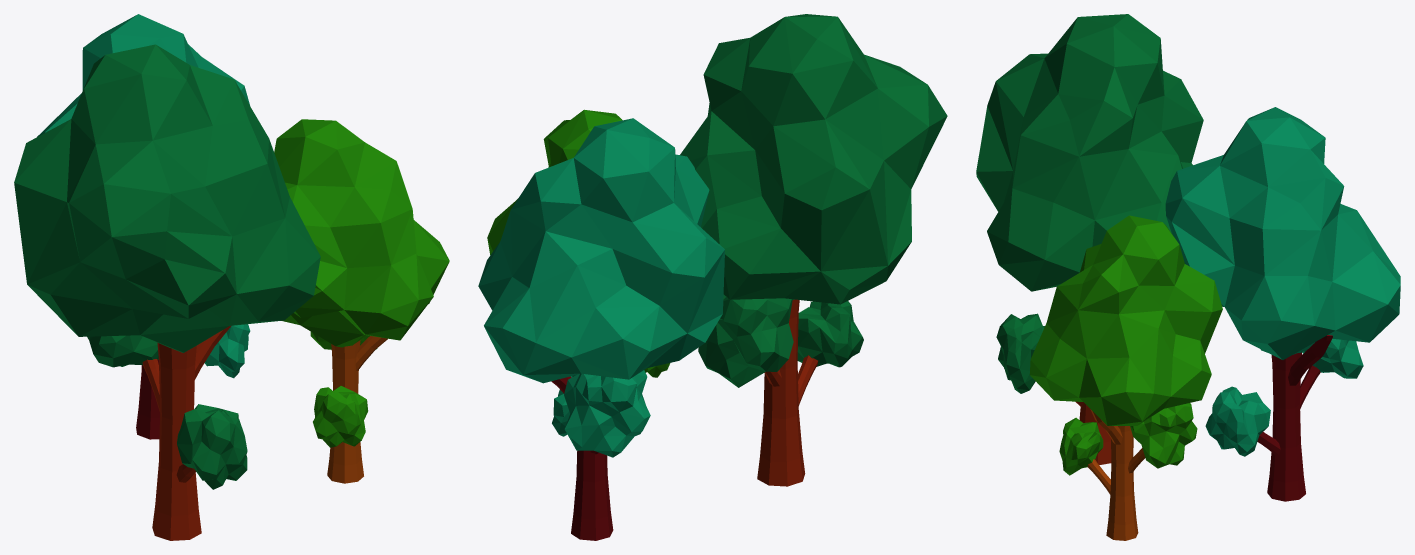
Rendered from Border Tree Group.fbx.
The picture shows the model from 3 angles, left to right: view 1: azimuth 30°, elevation 25°; view 2: azimuth 150°, elevation 25°; view 3: azimuth 270°, elevation 25°; orthographic projection. The views are drawn at different scales.
Visible parts, largest first — view 1: Cylinder.003; view 2: Cylinder.003; view 3: Cylinder.003.
Part boxes in pixels (x1=…): Cylinder.003: x1=14, y1=14, x2=449, y2=540; Cylinder.003: x1=478, y1=14, x2=947, y2=540; Cylinder.003: x1=976, y1=14, x2=1400, y2=540.
Bounding box in the file's own units: 233 × 228 × 257.
